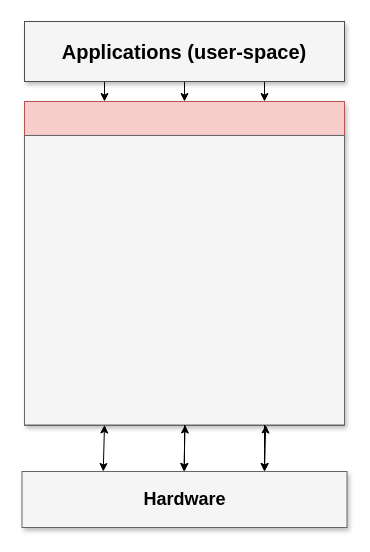
Some shapes in this 370 by 552 pixel diagram are drawn without their labels. Here are the shapes that lost their labels. From the top down, the centre of each, then its label:
the point at 185,119: System Calls
the point at 185,281: OS (kernel-space)
